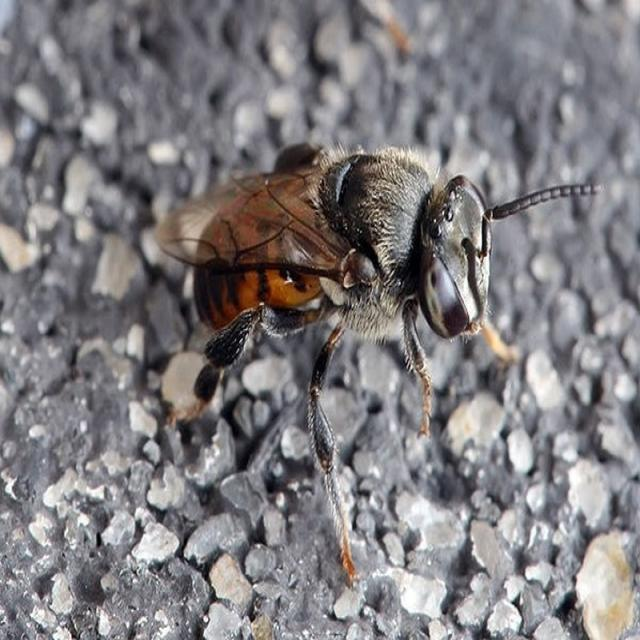Meliponula: (152, 111, 591, 552)
